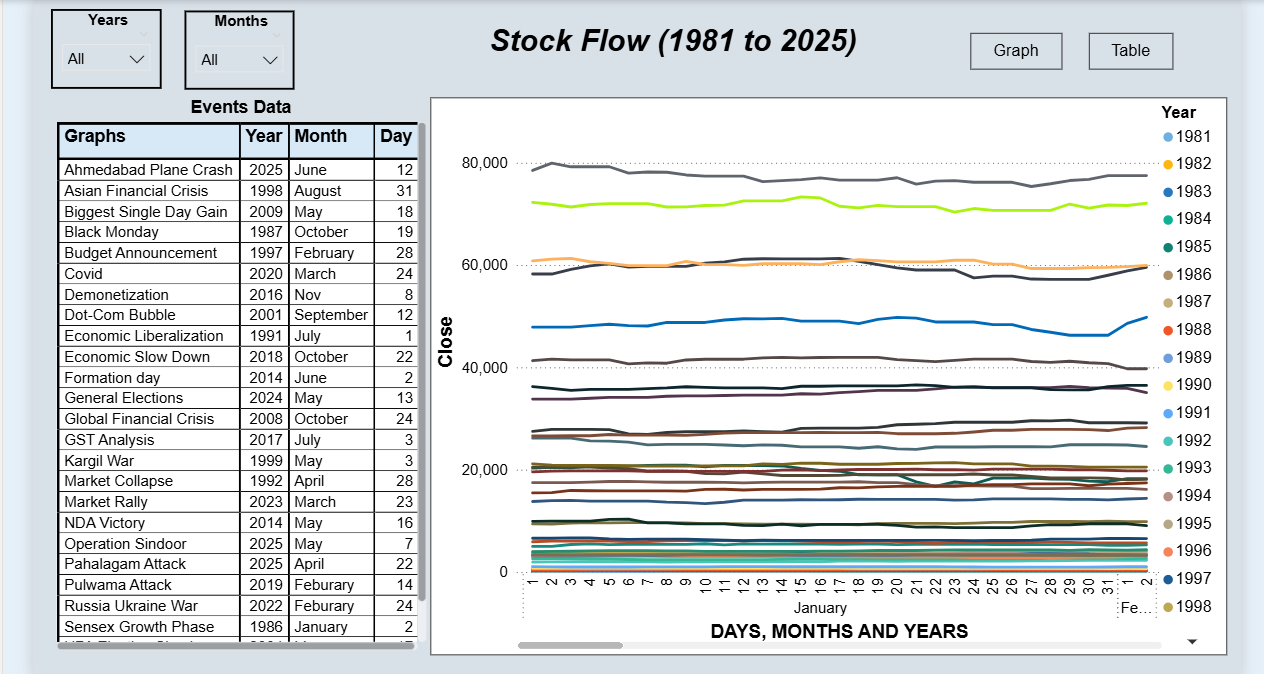

What the dashboard file says about the page in this screenshot:
{"tool":"powerbi","page":{"name":"Dashboard 1","canvas":[1280,720],"ordinal":0},"visuals":[{"type":"lineChart","fields":{"Y":["Min(public Sensex_with_weekend.Close)"],"Series":["public Sensex_with_weekend.Year"],"Category":["public Sensex_with_weekend.Date.Variation.Date Hierarchy.Month","public Sensex_with_weekend.Day","public Sensex_with_weekend.Year"]},"box":[422.3,103.8,844.5,591.2],"z":0},{"type":"actionButton","box":[1119.7,34.3,89.2,38.4],"z":1000},{"type":"actionButton","box":[994.9,34.3,97.4,38.4],"z":2000},{"type":"slicer","title":"Months","fields":{"Values":["public Sensex_with_weekend.Date.Variation.Date Hierarchy.Month"]},"box":[160.5,11,116.6,83.7],"z":3000},{"type":"textbox","box":[436.4,19.2,485.8,53.5],"z":5000},{"type":"tableEx","title":"Events Data","fields":{"Values":["historicaltrends_stock market.Graphs","historicaltrends_stock market.Year","historicaltrends_stock market.Month","historicaltrends_stock market.Day"]},"box":[19.3,103.8,403,591.2],"z":6000},{"type":"slicer","title":"Years","fields":{"Values":["public Sensex_with_weekend.Year"]},"box":[19.3,9.7,117,84.5],"z":7000}]}

Visuals, with their boxes on the page's 1280x720 design canvas (x1, y1, x2, y2). These are canvas units, not pixel positions in the 1264x674 screenshot, which may show the page scaled, cropped or inside an application window:
lineChart - Min(public Sensex_with_weekend.Close) x public Sensex_with_weekend.Year: 422, 104, 1267, 695
actionButton: 1120, 34, 1209, 73
actionButton: 995, 34, 1092, 73
"Months" slicer: 160, 11, 277, 95
textbox: 436, 19, 922, 73
"Events Data" tableEx: 19, 104, 422, 695
"Years" slicer: 19, 10, 136, 94
